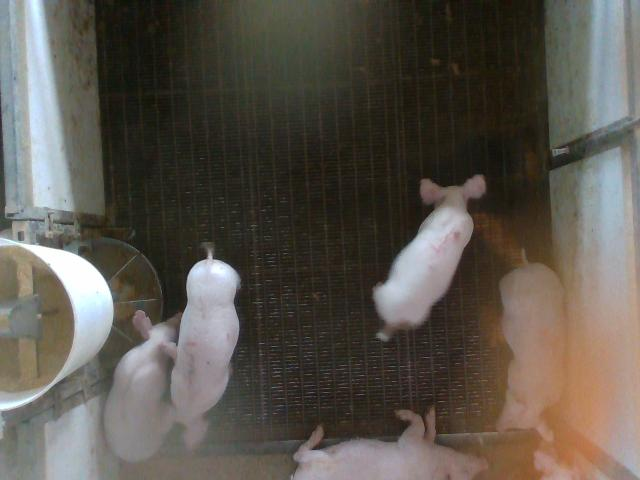pig-5: (372, 175, 486, 341)
